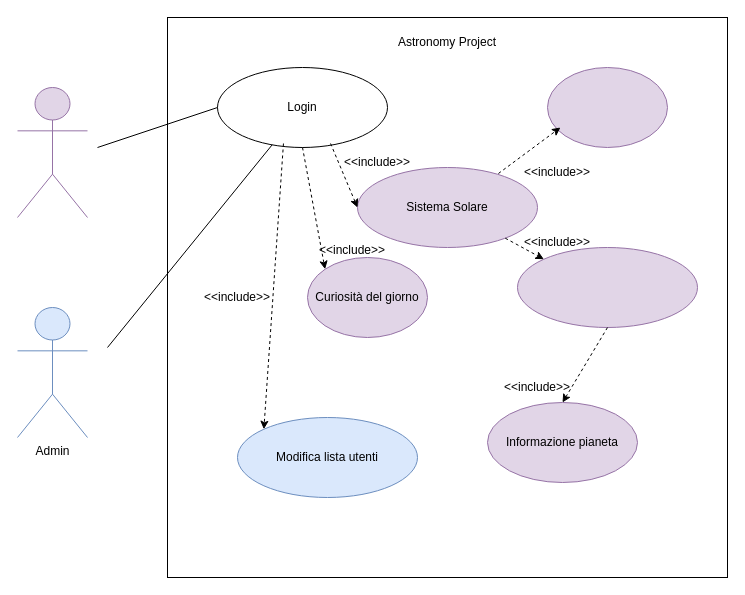
Image size: 745x595. Some labels were removed from this diagram. The shapes that lost their labels are listed below. From the top down, each one's centre as x and y in pixels, then its label:
(607,107): Luna
(52,152): User
(607,287): Scelta del pianeta
